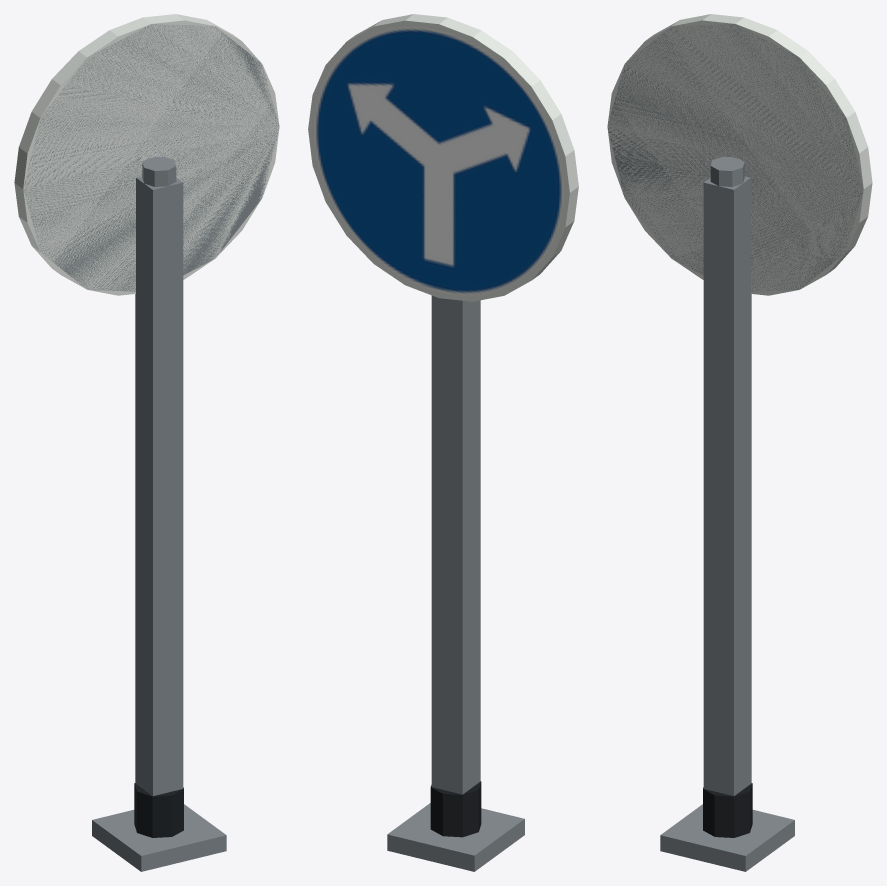
The model's file is direction-sign-l-r.glb.
3 renders of one model, left to right at view 1: azimuth 30°, elevation 25°; view 2: azimuth 150°, elevation 25°; view 3: azimuth 330°, elevation 25°, orthographic. The views are drawn at different scales.
Parts seen in each view (by area): view 1: direction-sign-l-r (×2); view 2: direction-sign-l-r (×2); view 3: direction-sign-l-r (×2).
Part boxes in pixels (x1,y1,x2,y2): direction-sign-l-r (×2): [14, 14, 279, 871]; direction-sign-l-r (×2): [308, 14, 578, 871]; direction-sign-l-r (×2): [607, 14, 872, 871].
Size of the model in its own units: 2.35 by 7.14 by 0.784.
Materials: 4 (1 with a texture image).
